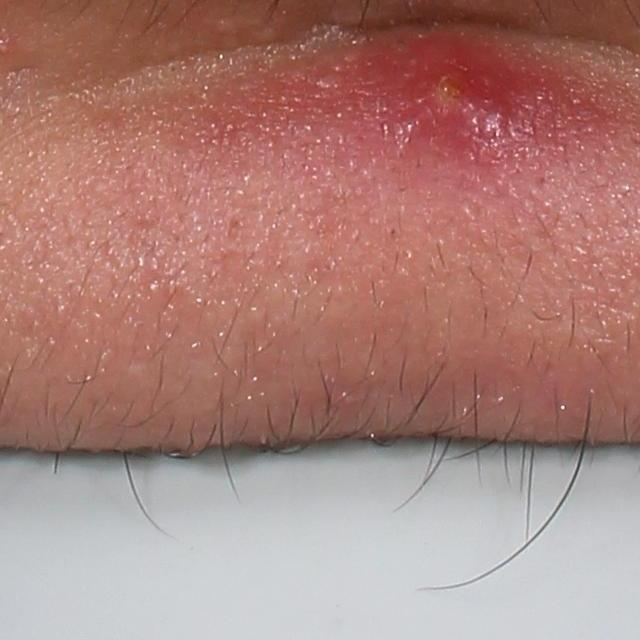nodule: (292, 32, 600, 167)
